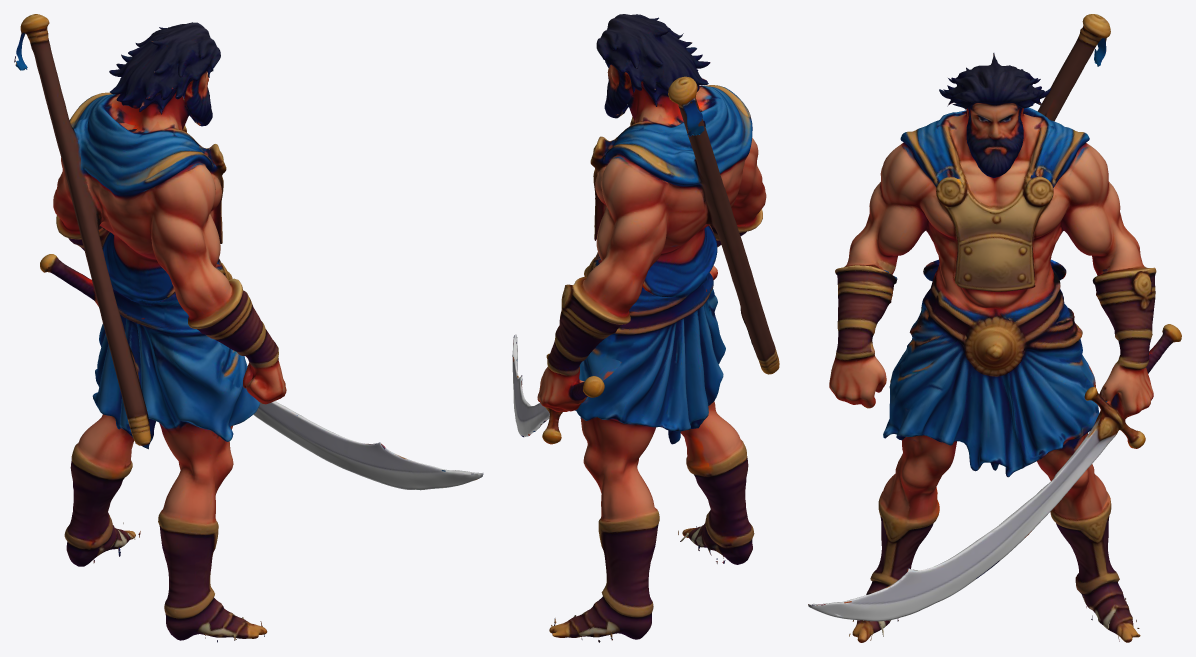
The model's file is GrodF.fbx.
3 renders of one model, left to right at view 1: azimuth 30°, elevation 25°; view 2: azimuth 150°, elevation 25°; view 3: azimuth 270°, elevation 25°, orthographic.
Visible parts, largest first — view 1: tripo_node_18990827; view 2: tripo_node_18990827; view 3: tripo_node_18990827.
Boxes of the visible parts, x1,y1,x2,y2 form: tripo_node_18990827: (14,14,483,642); tripo_node_18990827: (512,14,779,642); tripo_node_18990827: (808,14,1181,642).
Size of the model in its own units: 0.6101 by 0.9976 by 0.5913.
1 material, 1 textured.
